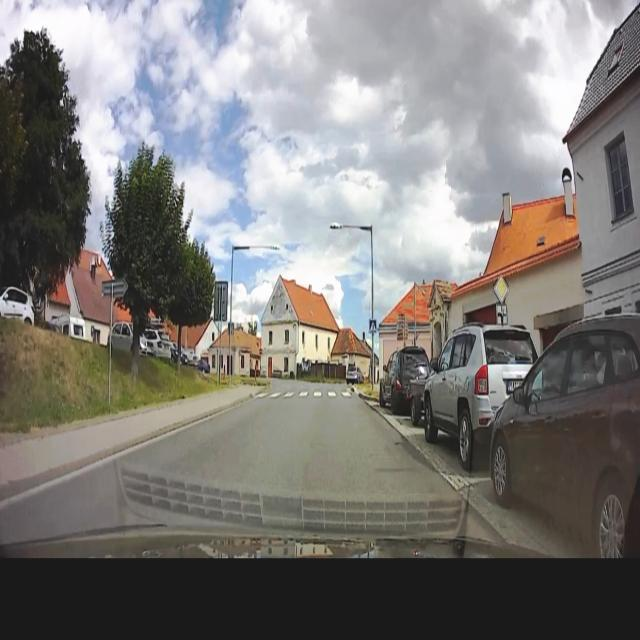Priority road: (492, 273, 510, 302)
